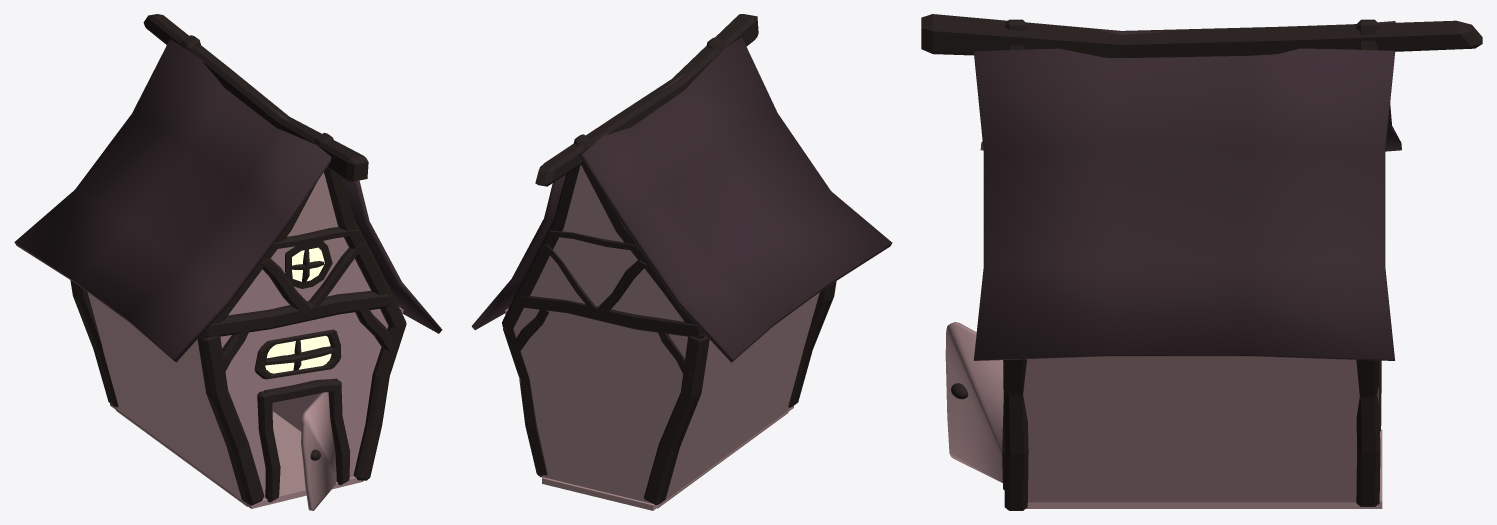
Rendered from huis.fbx.
3 renders of one model, left to right at view 1: azimuth 30°, elevation 25°; view 2: azimuth 150°, elevation 25°; view 3: azimuth 270°, elevation 25°, orthographic. The views are drawn at different scales.
Visible parts, largest first — view 1: Plane.009; view 2: Plane.009; view 3: Plane.009.
Boxes of the visible parts, <box> form: Plane.009: <box>14,14,442,510</box>; Plane.009: <box>471,14,892,510</box>; Plane.009: <box>921,14,1482,510</box>.
Size of the model in its own units: 766 by 980 by 1059.
